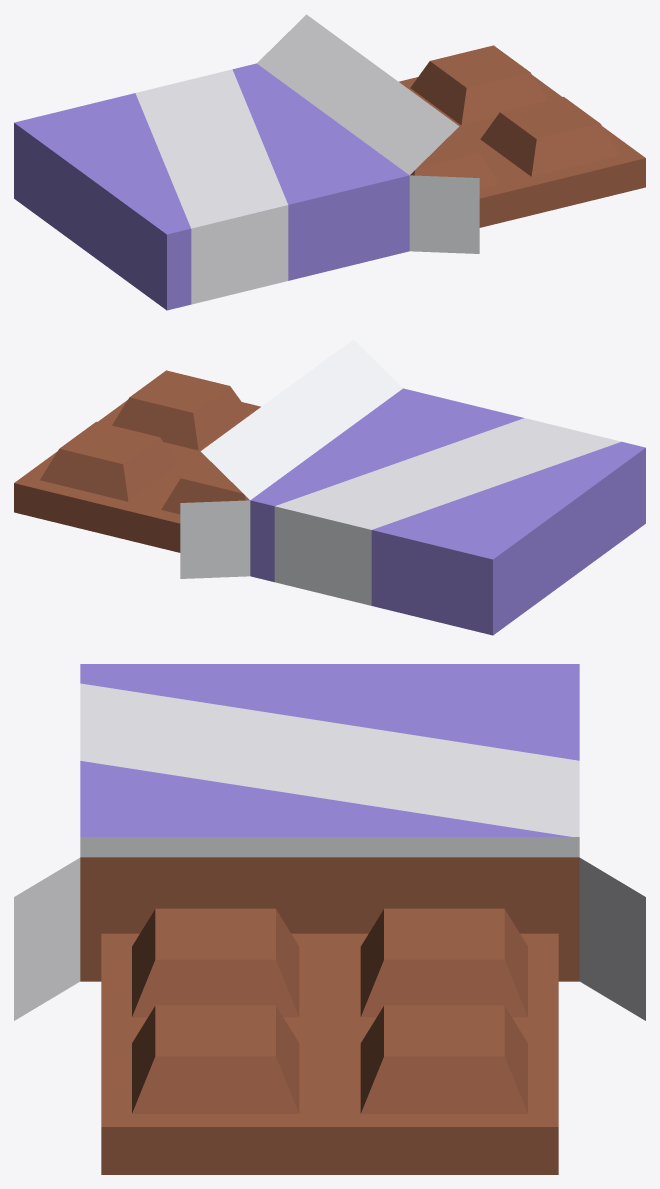
File: chocolateWrapper.dae
3 renders of one model, top to bottom at view 1: azimuth 30°, elevation 25°; view 2: azimuth 150°, elevation 25°; view 3: azimuth 270°, elevation 25°, orthographic. The views are drawn at different scales.
Parts seen in each view (by area): view 1: chocolateWrapper; view 2: chocolateWrapper; view 3: chocolateWrapper.
Part boxes in pixels (x1,y1,x2,y2): chocolateWrapper: (14,14,645,310); chocolateWrapper: (14,339,645,635); chocolateWrapper: (14,664,645,1174).
Bounding box in the file's own units: 0.2924 × 0.0649 × 0.202.
